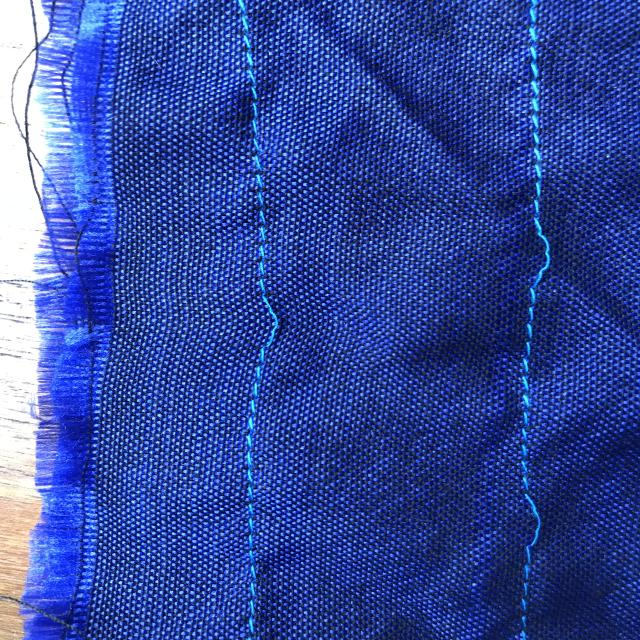skip: (489, 482, 574, 566), (237, 274, 296, 372), (520, 211, 576, 308)
